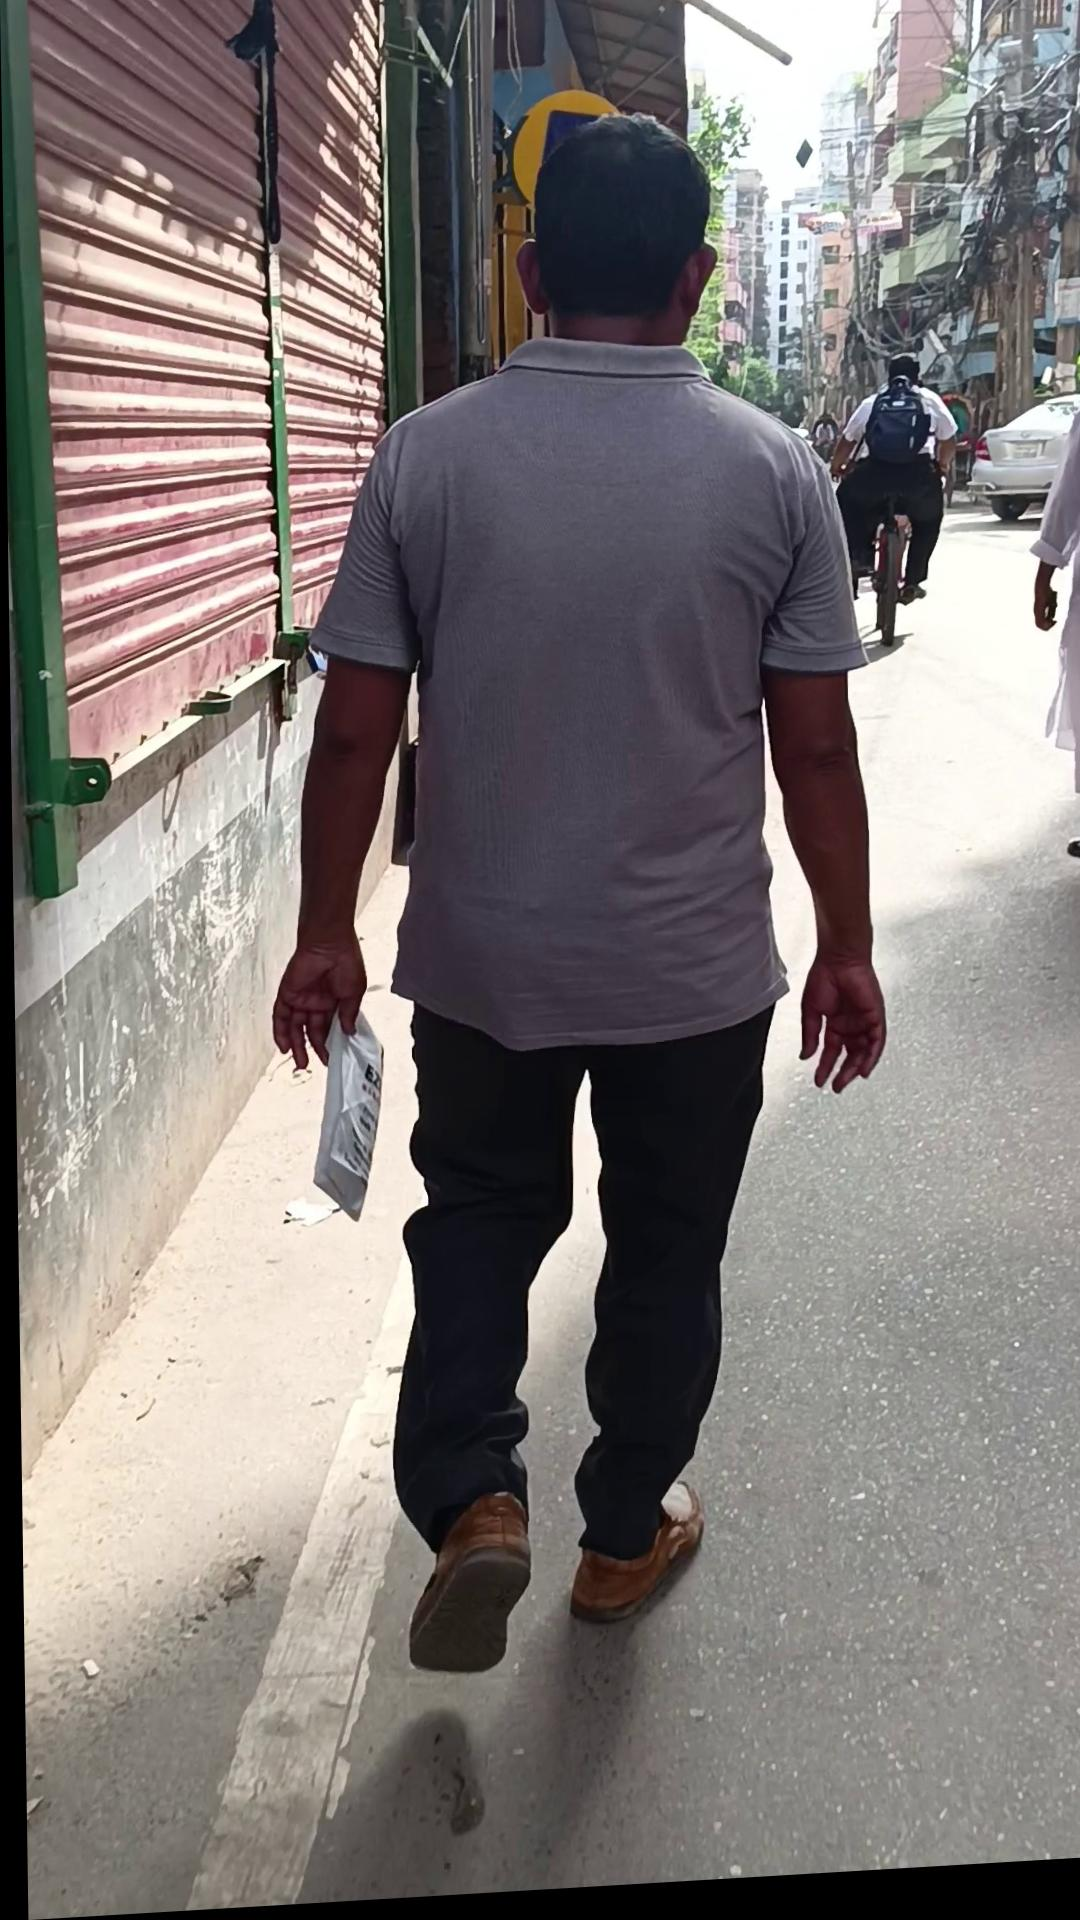Car: (964, 406, 1080, 535)
Muddy road: (257, 107, 891, 1688), (824, 361, 959, 618), (1025, 413, 1080, 877)
Obstacle: (249, 0, 299, 723)
Potted-plant: (9, 495, 1080, 1916)
